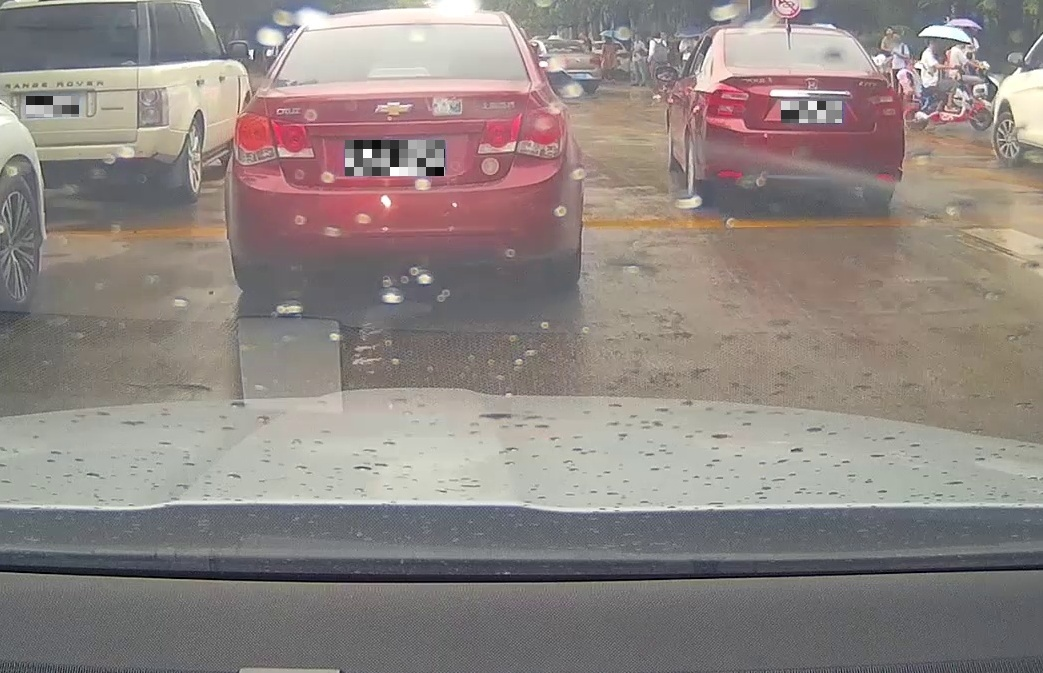L_light: (233, 112, 315, 165), (704, 82, 750, 119)
R_light: (476, 106, 569, 157), (865, 86, 904, 121)
T_light: (367, 68, 431, 78), (787, 63, 824, 71)
day-no: (225, 9, 582, 292), (699, 24, 905, 206)
plate_1: (26, 96, 79, 117)
plate_2: (345, 140, 445, 176)
plate_3: (781, 101, 842, 123)
